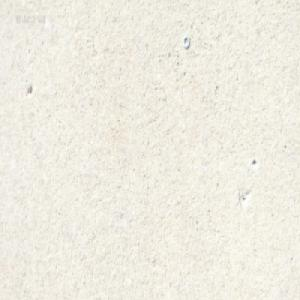Washer: (182, 34, 190, 48)
